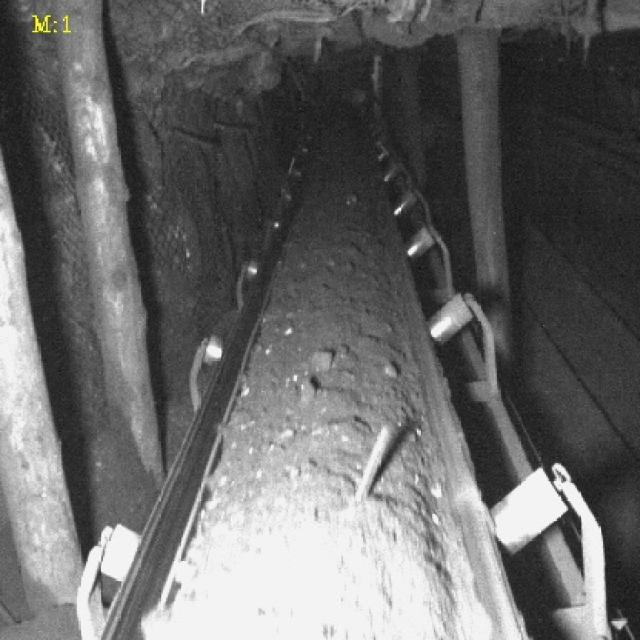bolt: (354, 424, 397, 522)
